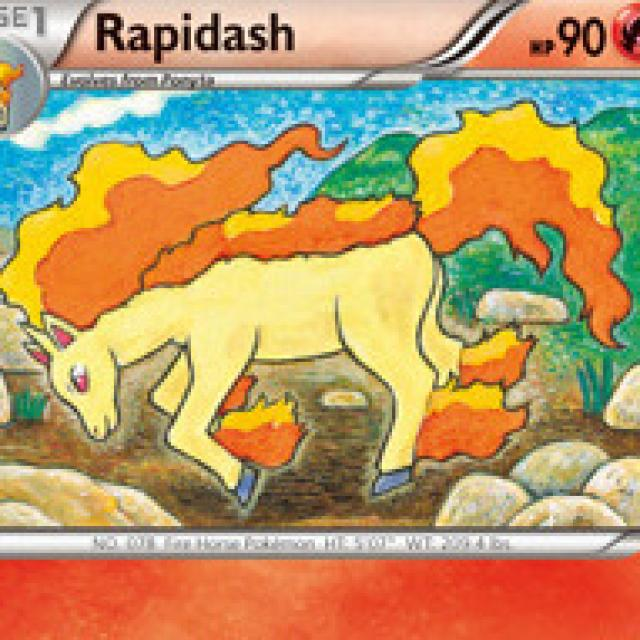Rapidash: (27, 123, 531, 490)
